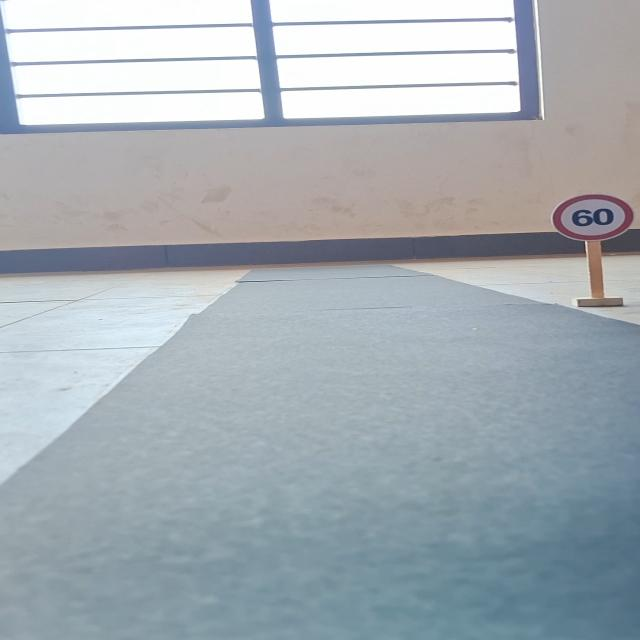Speed60: (550, 192, 634, 242)
